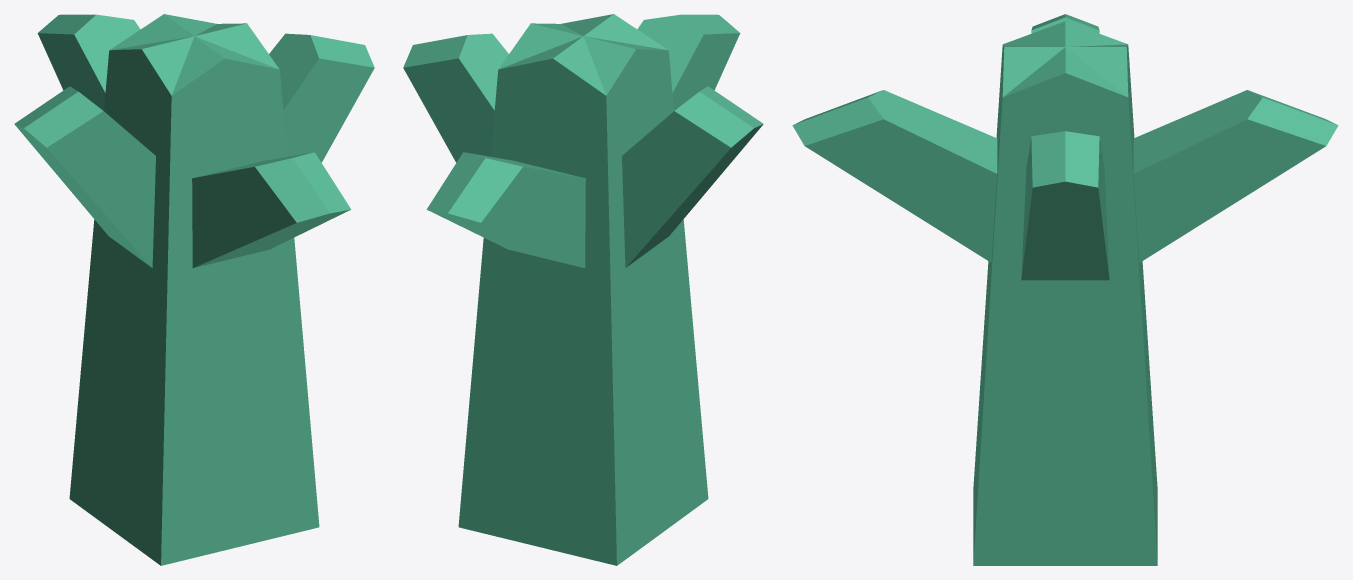
The model's file is broccoliStem.obj.
3 views of the same model, side by side, from view 1: azimuth 30°, elevation 25°; view 2: azimuth 150°, elevation 25°; view 3: azimuth 270°, elevation 25° (orthographic).
Visible parts, largest first — view 1: broccoli.001; view 2: broccoli.001; view 3: broccoli.001.
Part boxes in pixels (x1,y1,x2,y2): broccoli.001: (14, 14, 374, 565); broccoli.001: (403, 14, 763, 565); broccoli.001: (792, 14, 1338, 565).
Size of the model in its own units: 0.1752 by 0.2339 by 0.2413.
